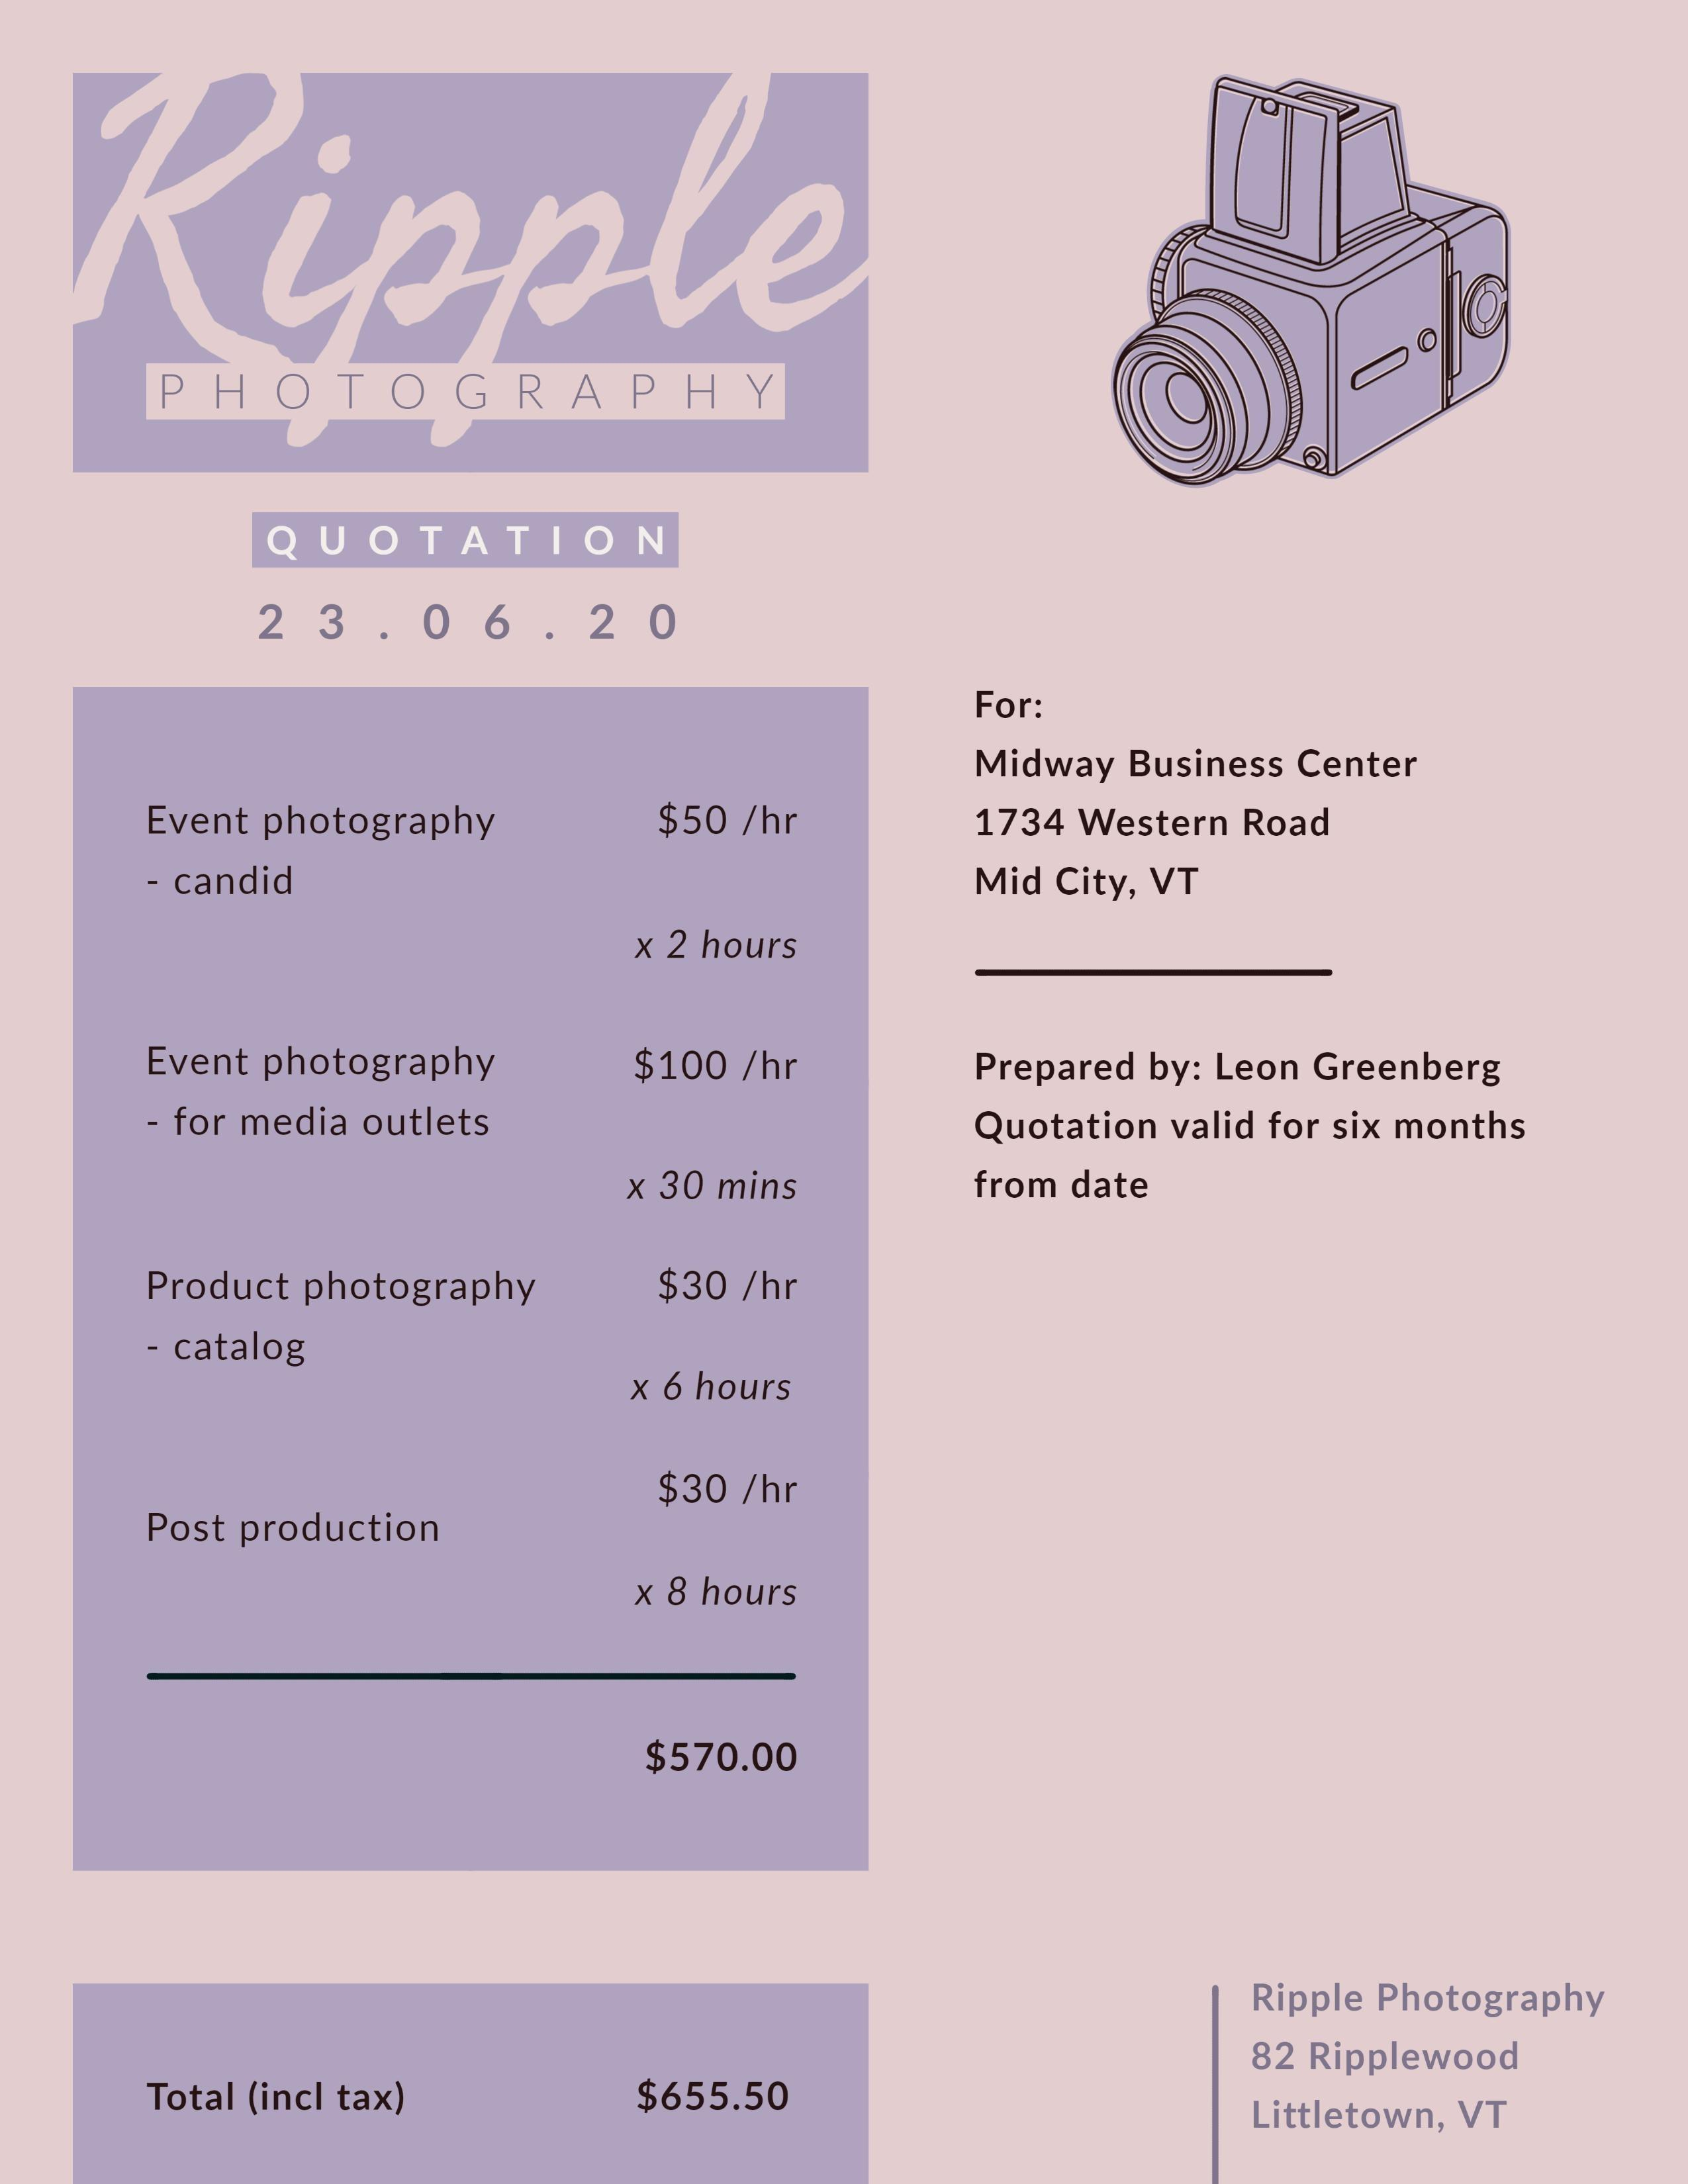ROI: (115, 766, 819, 1802), (962, 680, 1462, 907), (970, 1044, 1536, 1218), (1243, 1964, 1632, 2147), (138, 2061, 795, 2126)
